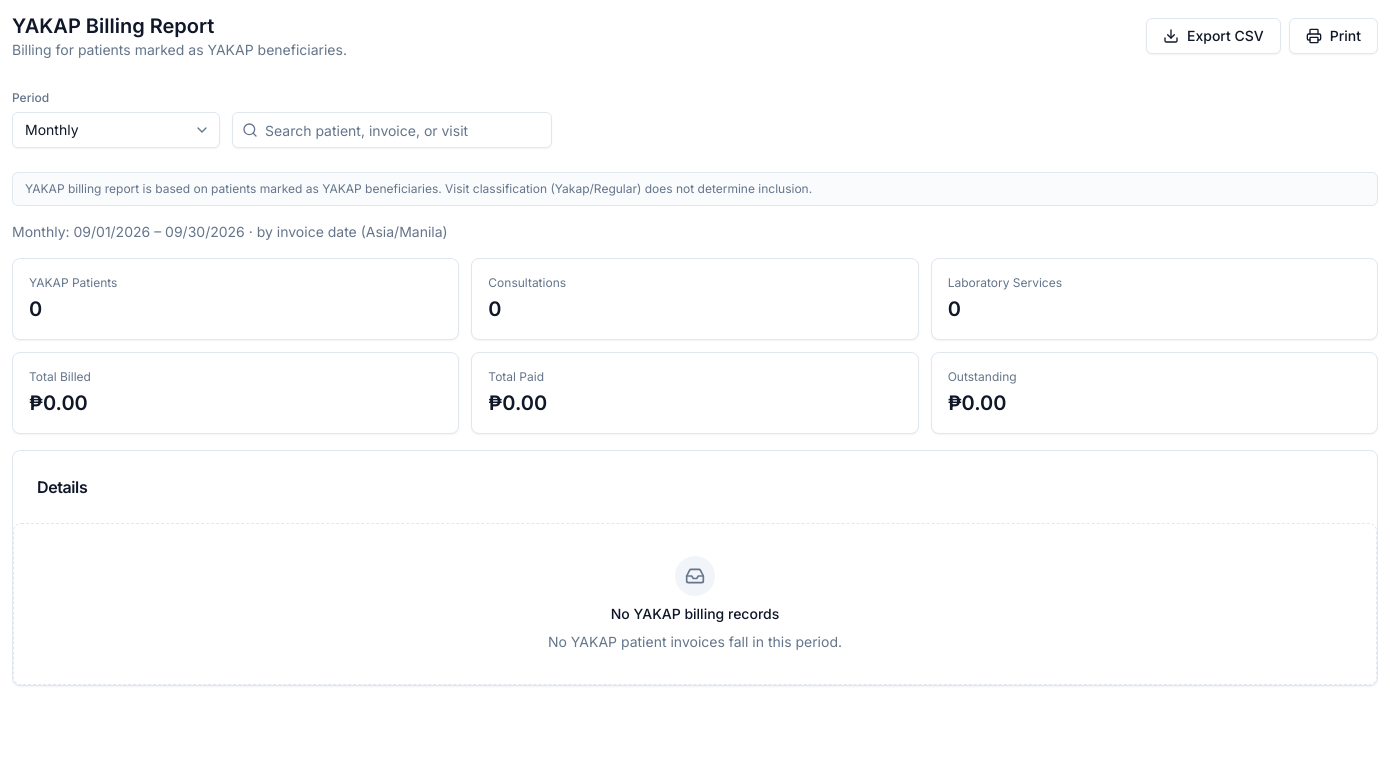
Test: YakapBillingReportPage (Task #4) › shows the empty state (with zeroed summary) when nothing qualifies, and a search-specific message
expect the text "No YAKAP billing records" is shown: met, box [611,604,779,624]
expect the text "No YAKAP patient invoices fall in this period." is shown: met, box [548,632,842,652]
Type "Cruz" into the search field named "Search YAKAP billing report".
click(392, 130); type("Cruz")  # box [232,112,552,148]
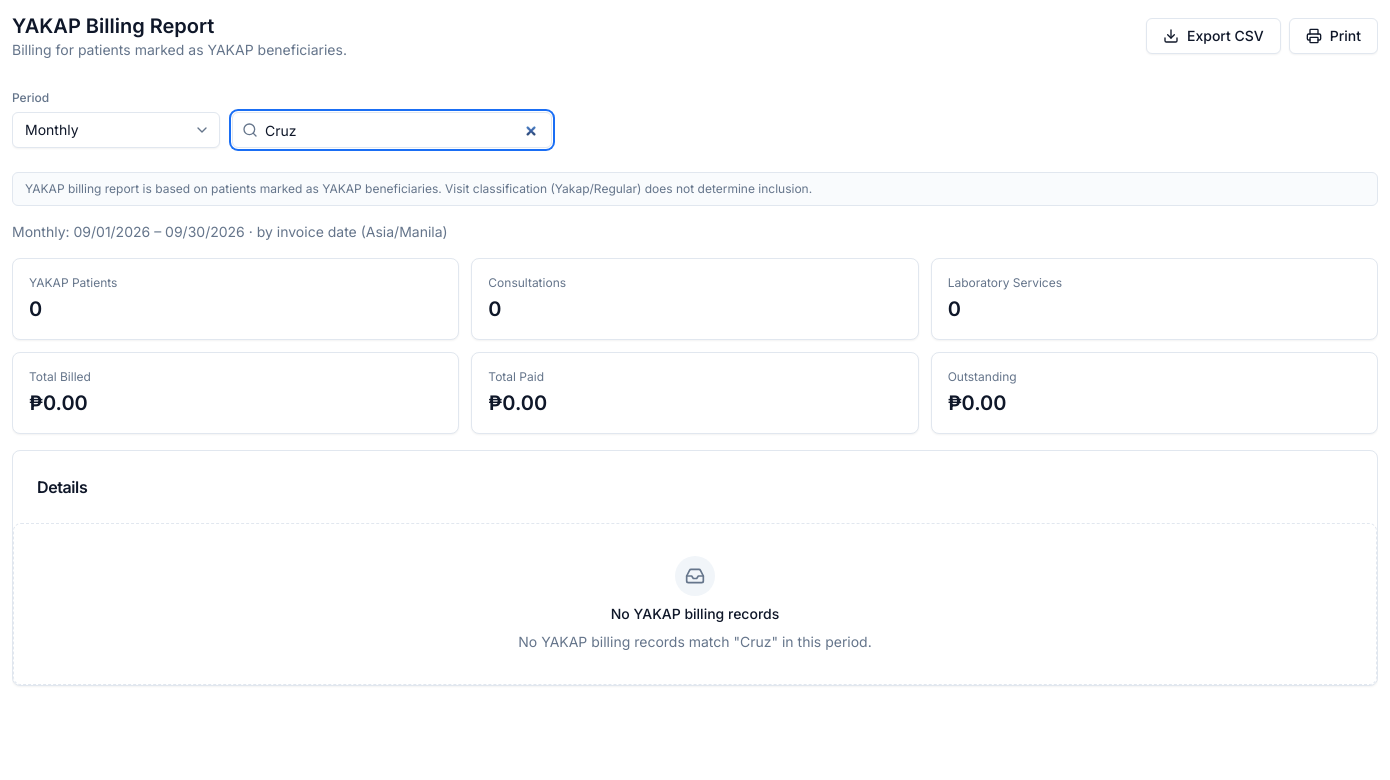
expect the text "No YAKAP billing records match \"Cruz\" in this period." is shown: met, box [518,632,872,652]
